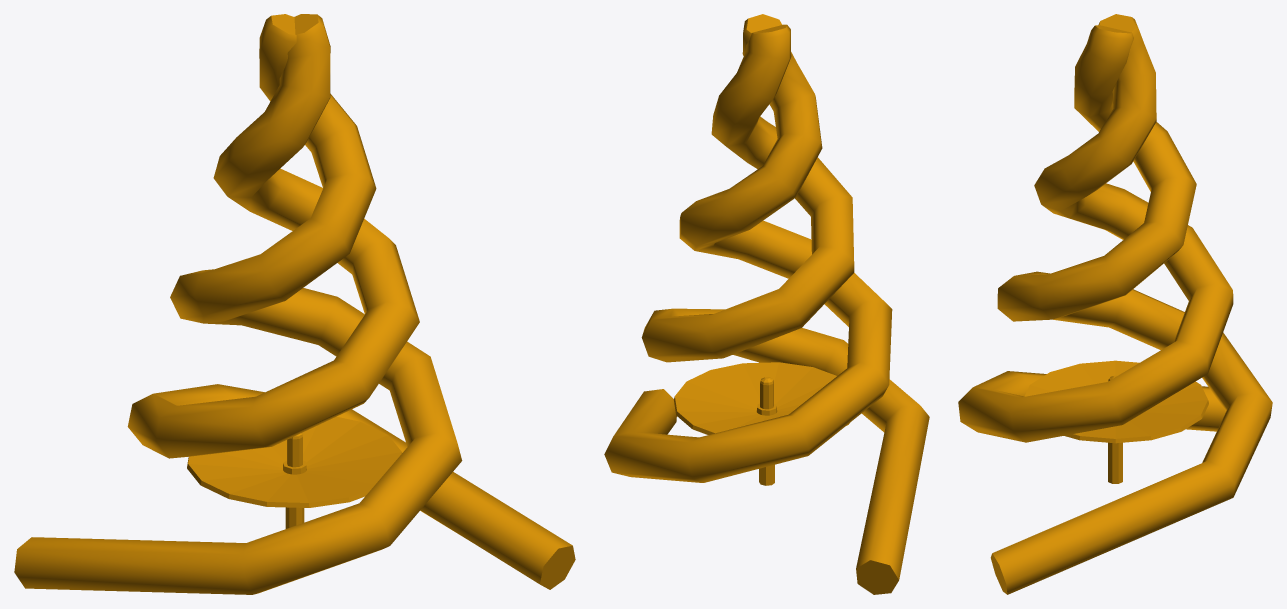
The model's file is fountain.fbx.
The picture shows the model from 3 angles, left to right: view 1: azimuth 30°, elevation 25°; view 2: azimuth 150°, elevation 25°; view 3: azimuth 270°, elevation 25°; orthographic projection. The views are drawn at different scales.
Visible parts, largest first — view 1: Spiral, Spiral.001, Circle; view 2: Spiral.001, Spiral, Circle; view 3: Spiral.001, Spiral, Circle.
Part boxes in pixels (<box>): Spiral: <box>14,14,462,594</box>; Spiral.001: <box>127,14,575,589</box>; Circle: <box>187,416,401,528</box>; Spiral.001: <box>604,14,892,482</box>; Spiral: <box>641,24,929,594</box>; Circle: <box>674,362,849,485</box>; Spiral.001: <box>990,25,1272,594</box>; Spiral: <box>958,14,1233,442</box>; Circle: <box>1024,360,1208,483</box>.
Bounding box in the file's own units: 69.16 × 50.53 × 86.67.
